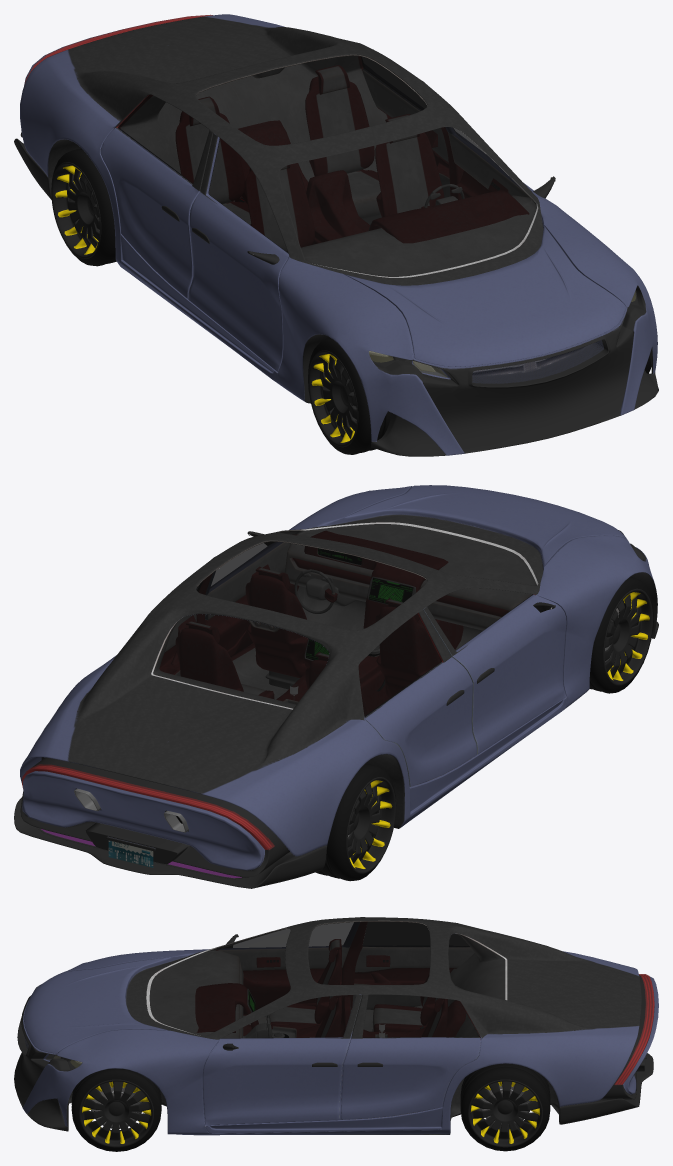
File: nexus_rx.glb
3 renders of one model, top to bottom at view 1: azimuth 30°, elevation 25°; view 2: azimuth 150°, elevation 25°; view 3: azimuth 270°, elevation 25°, orthographic. The views are drawn at different scales.
Parts seen in each view (by area): view 1: Body_low, Windows_low, Inside_low, Front Door_low, Rear Door_low, Rear Seats_low, Divider_low, Front Seats_low, Rim RR_low, Rim FR_low, Tire RR_low, Tire FR_low (+2 smaller); view 2: Body_low, Windows_low, Inside_low, Front Door_low, Rear Door_low, Front Seats_low, Divider_low, Rear Seats_low, Rim FR_low, Rim RR_low, Rear Lights Cover_low, Tire RR_low (+5 smaller); view 3: Body_low, Windows_low, Front Door_low, Rear Door_low, Inside_low, Rim RL_low, Rim FL_low, Divider_low, Tire RL_low, Front Seats_low, Tire FL_low, Rear Seats_low (+2 smaller).
Boxes of the visible parts, x1,y1,x2,y2 form: Body_low: (14, 14, 658, 456); Windows_low: (118, 55, 536, 276); Inside_low: (116, 54, 538, 277); Front Door_low: (188, 127, 556, 371); Rear Door_low: (100, 69, 449, 298); Rear Seats_low: (176, 65, 381, 224); Divider_low: (235, 121, 528, 244); Front Seats_low: (246, 114, 443, 250); Rim RR_low: (51, 162, 101, 258); Rim FR_low: (308, 350, 358, 447); Tire RR_low: (51, 148, 116, 266); Tire FR_low: (308, 338, 390, 454); Body_low: (14, 485, 658, 888); Windows_low: (153, 524, 536, 716); Inside_low: (151, 522, 538, 709); Front Door_low: (205, 531, 566, 754); Rear Door_low: (109, 615, 476, 786); Front Seats_low: (246, 567, 439, 697); Divider_low: (277, 531, 463, 711); Rear Seats_low: (176, 621, 368, 715); Rim FR_low: (603, 588, 653, 685); Rim RR_low: (346, 777, 395, 873); Rear Lights Cover_low: (22, 764, 274, 878); Tire RR_low: (315, 763, 396, 881); Body_low: (14, 917, 658, 1135); Windows_low: (149, 921, 505, 1038); Front Door_low: (203, 922, 361, 1125); Rear Door_low: (341, 947, 480, 1119); Inside_low: (146, 920, 507, 1039); Rim RL_low: (468, 1079, 542, 1147); Rim FL_low: (79, 1079, 153, 1147); Divider_low: (195, 983, 465, 1037); Tire RL_low: (460, 1063, 550, 1151); Front Seats_low: (270, 939, 341, 1037); Tire FL_low: (71, 1068, 161, 1151); Rear Seats_low: (372, 976, 447, 1036).
Bounding box in the file's own units: 1.9 × 1.16 × 4.58.
Materials: 4 (4 with a texture image).
